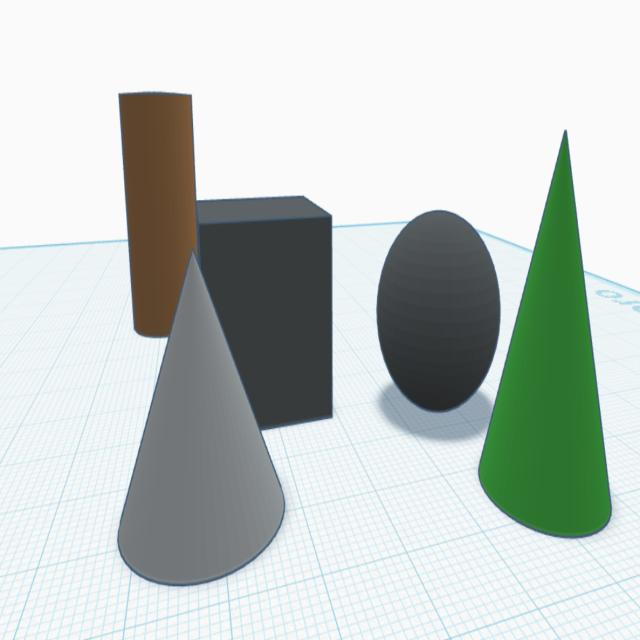cone: (115, 245, 288, 589), (477, 122, 615, 544)
sphere: (373, 204, 503, 418)
